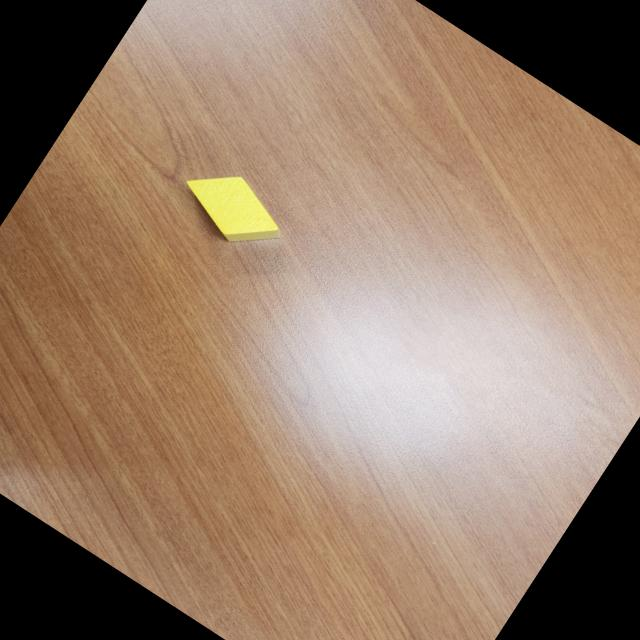yellow: (169, 152, 294, 262)
